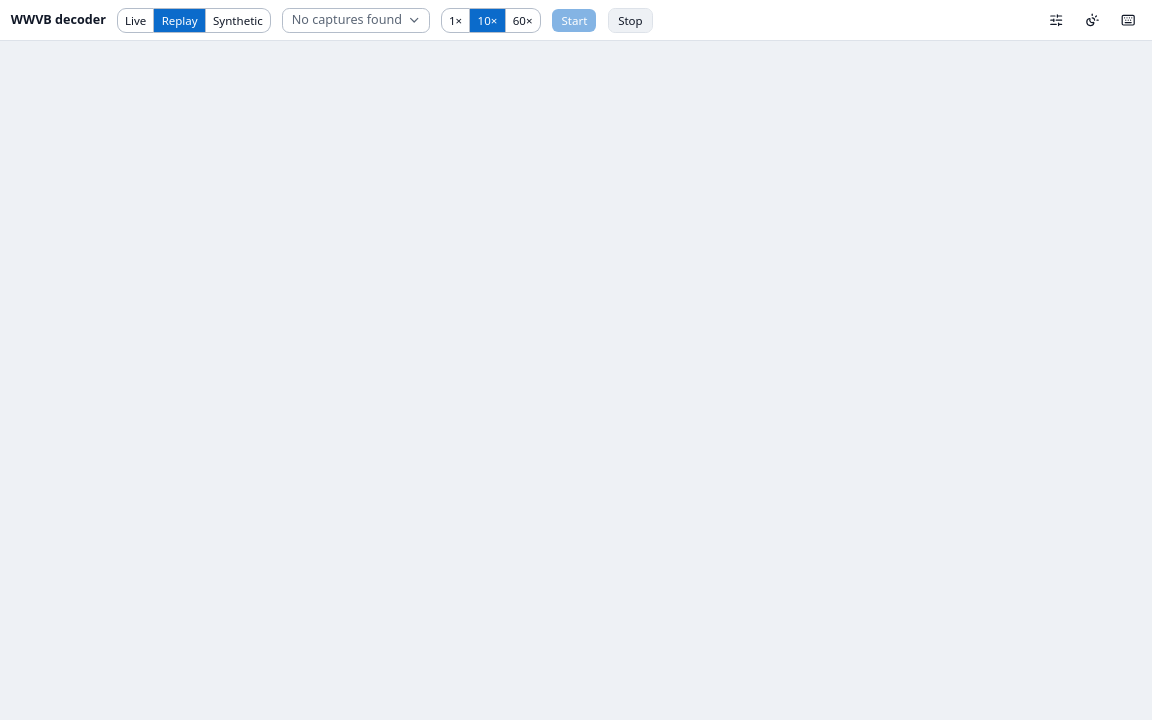
AppBar › shows the remembered noise and level, which belong to other controls
Click the button "Synthetic". click: (238, 20)
box: [206,8,271,33]
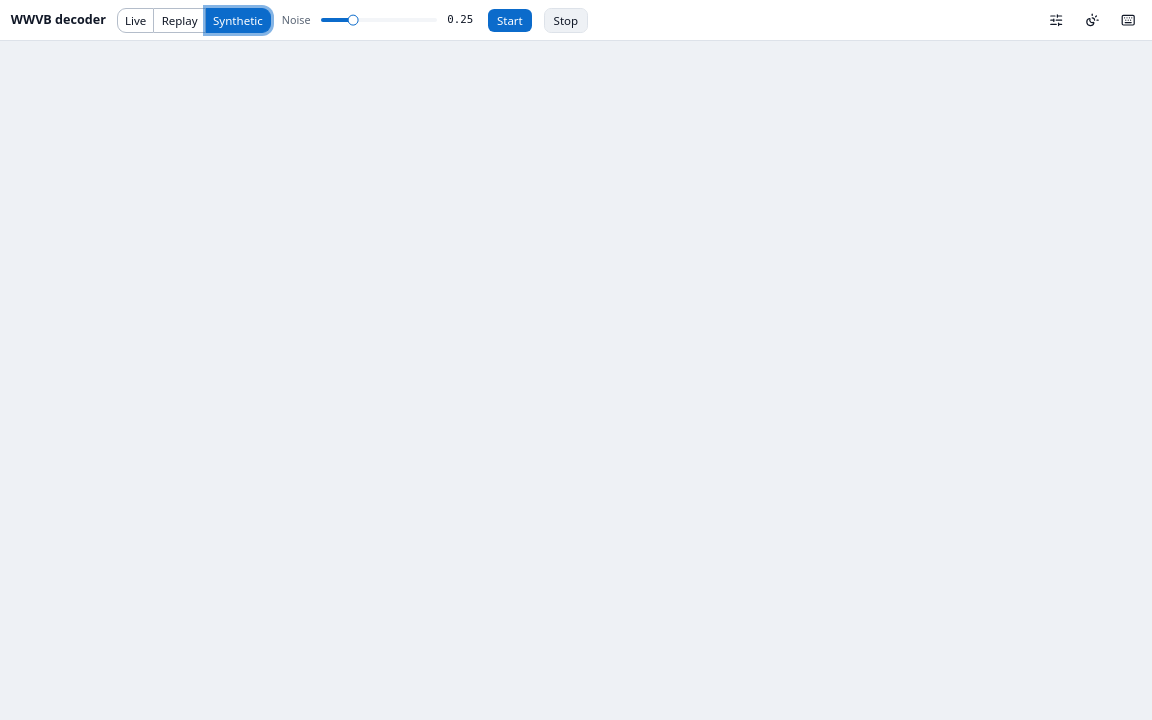
expect the text "0.25" is shown: met, box [447,13,476,27]
Click the button named "Signal settings". click: (1057, 20)
box: [1044,8,1069,33]
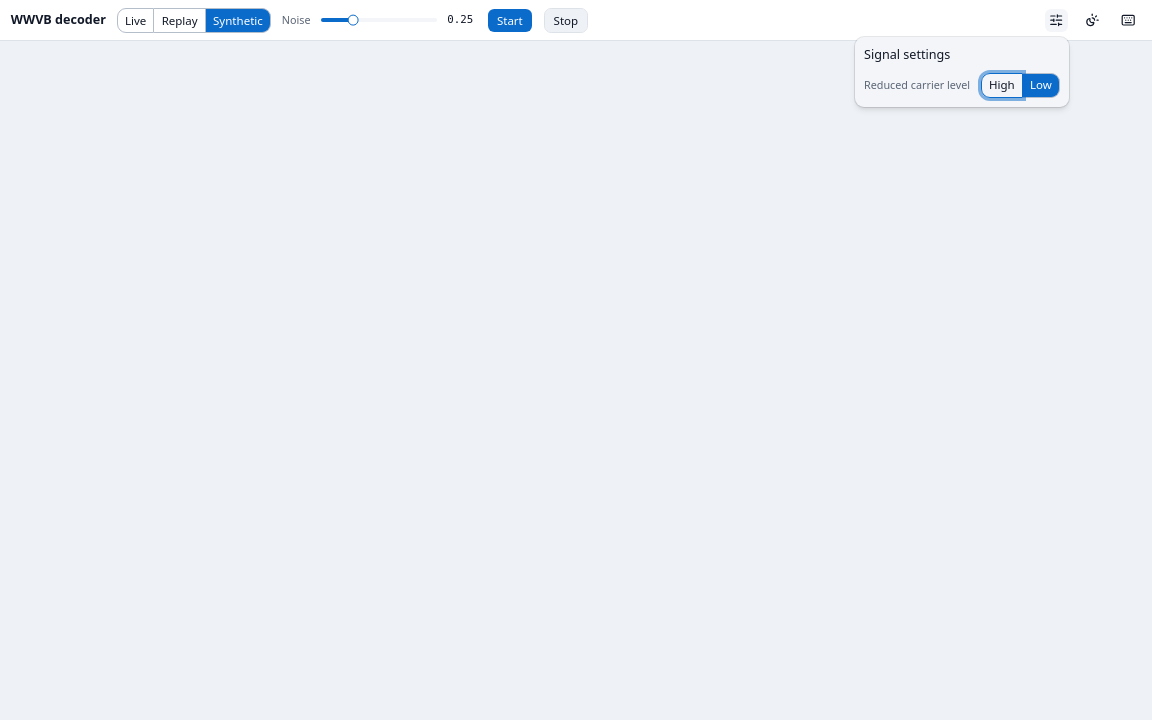
expect the button "Low" is shown: met, box [1023,73,1060,98]
